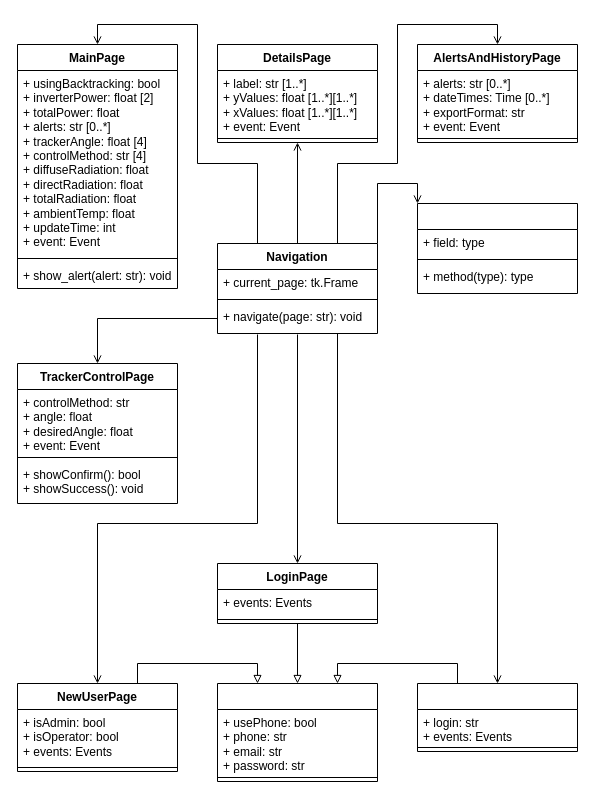
The diagram is 595 pixels wide and 799 high, and some of its shapes have lost their labels. The shapes that lost their labels are listed below. From the top down, each one's box as (x1, y1, x2, y2) in pixels, then its label:
(416, 202, 578, 294): ExportReportPage
(216, 682, 378, 782): UserData
(416, 682, 578, 752): RemoveUserPage
